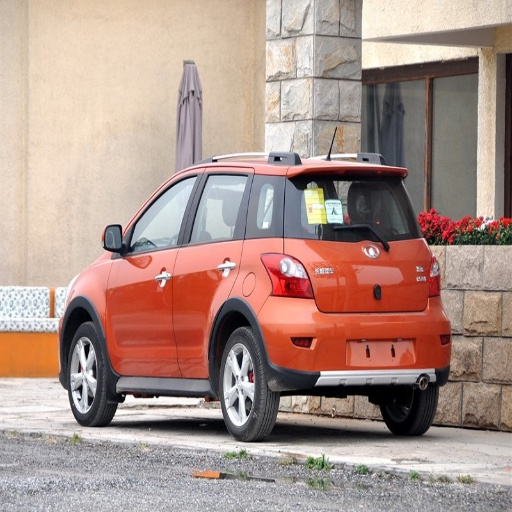back_bumper: (261, 297, 450, 390)
back_glass: (288, 175, 412, 236)
back_left_door: (175, 170, 248, 376)
trunk: (293, 242, 429, 341)
